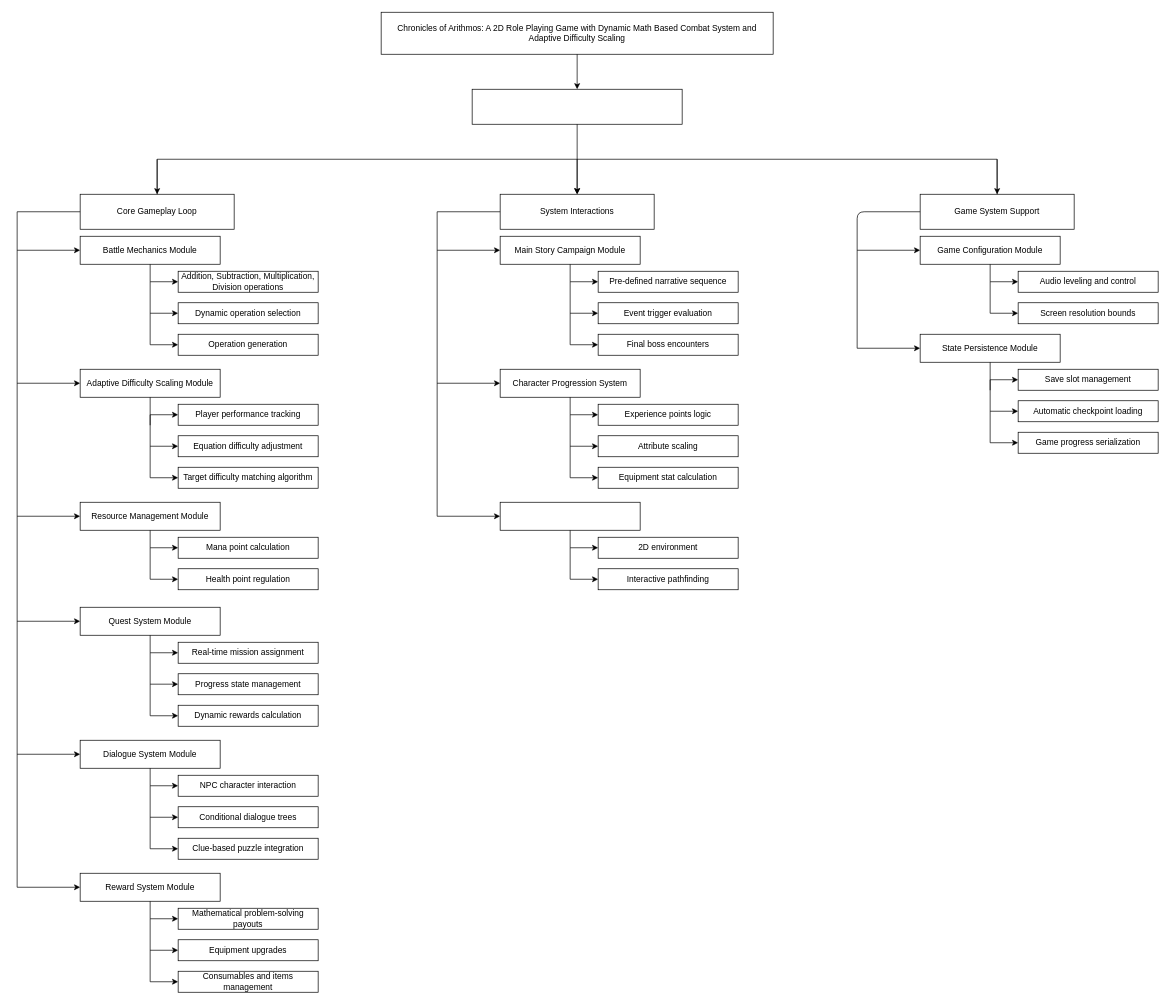
This 1170x1005 diagram has some shape labels left out. Here are the shapes that lost their labels. From the top down, the centre of each, then its label:
point 576,106: Game Application
point 569,516: Exploration and Navigation Module
